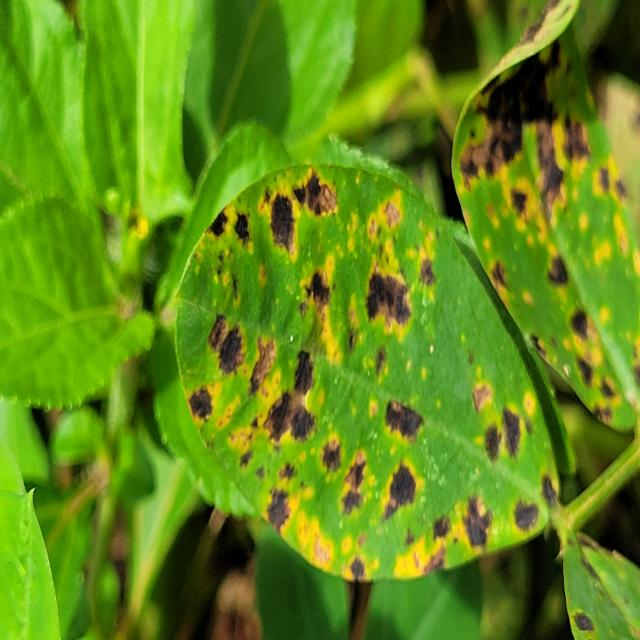Ground nut_tikka leaf spot: (170, 153, 563, 580)
